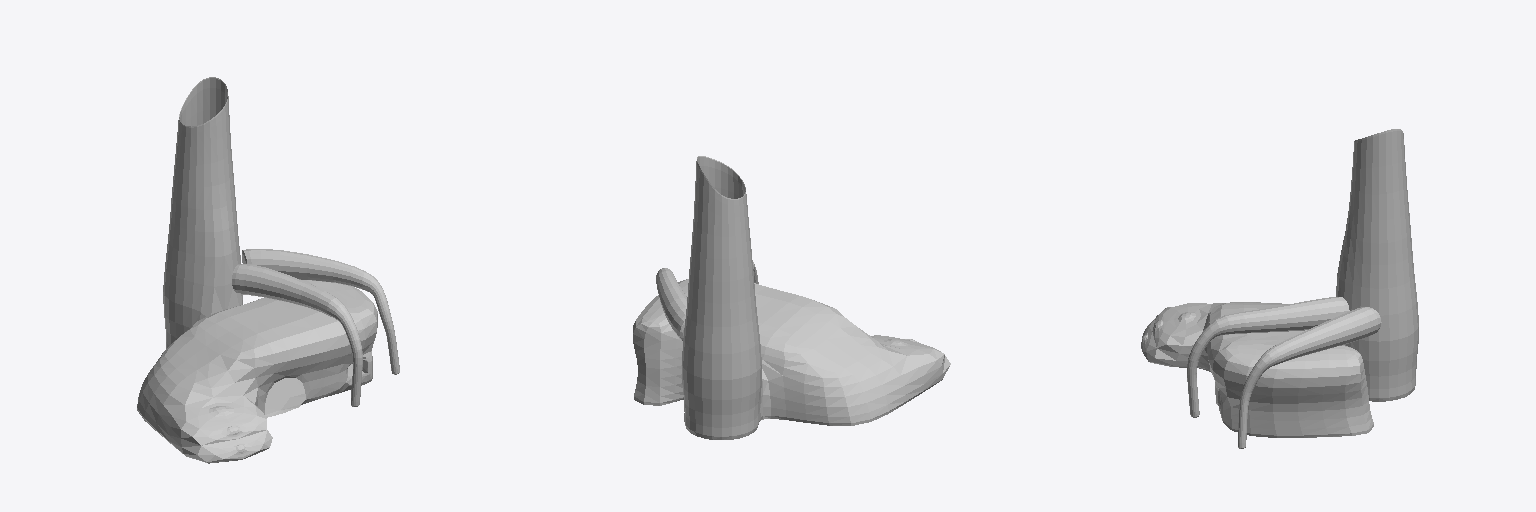
The model's file is Casa.obj.
3 renders of one model, left to right at view 1: azimuth 30°, elevation 25°; view 2: azimuth 150°, elevation 25°; view 3: azimuth 270°, elevation 25°, orthographic.
Visible parts, largest first — view 1: Casa_Casa_Cube.003; view 2: Casa_Casa_Cube.003; view 3: Casa_Casa_Cube.003.
Part boxes in pixels (x1,y1,x2,y2): Casa_Casa_Cube.003: (137, 77, 399, 463); Casa_Casa_Cube.003: (633, 156, 950, 439); Casa_Casa_Cube.003: (1141, 129, 1418, 448).
Size of the model in its own units: 27.32 by 28.11 by 26.44.